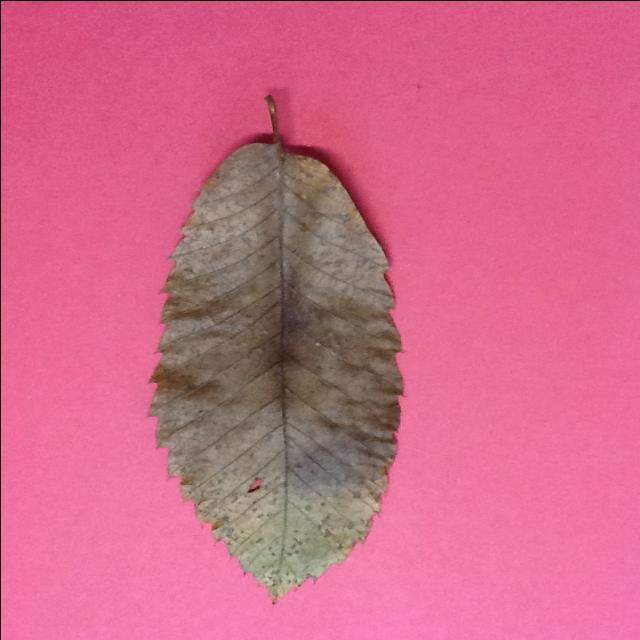foliage: (148, 94, 408, 604)
